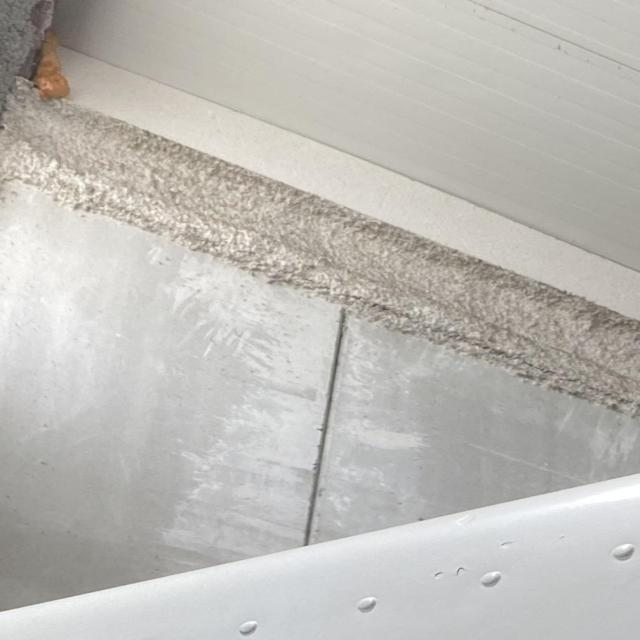Paint-off: (452, 566, 471, 577), (429, 569, 447, 580), (499, 540, 514, 549)
